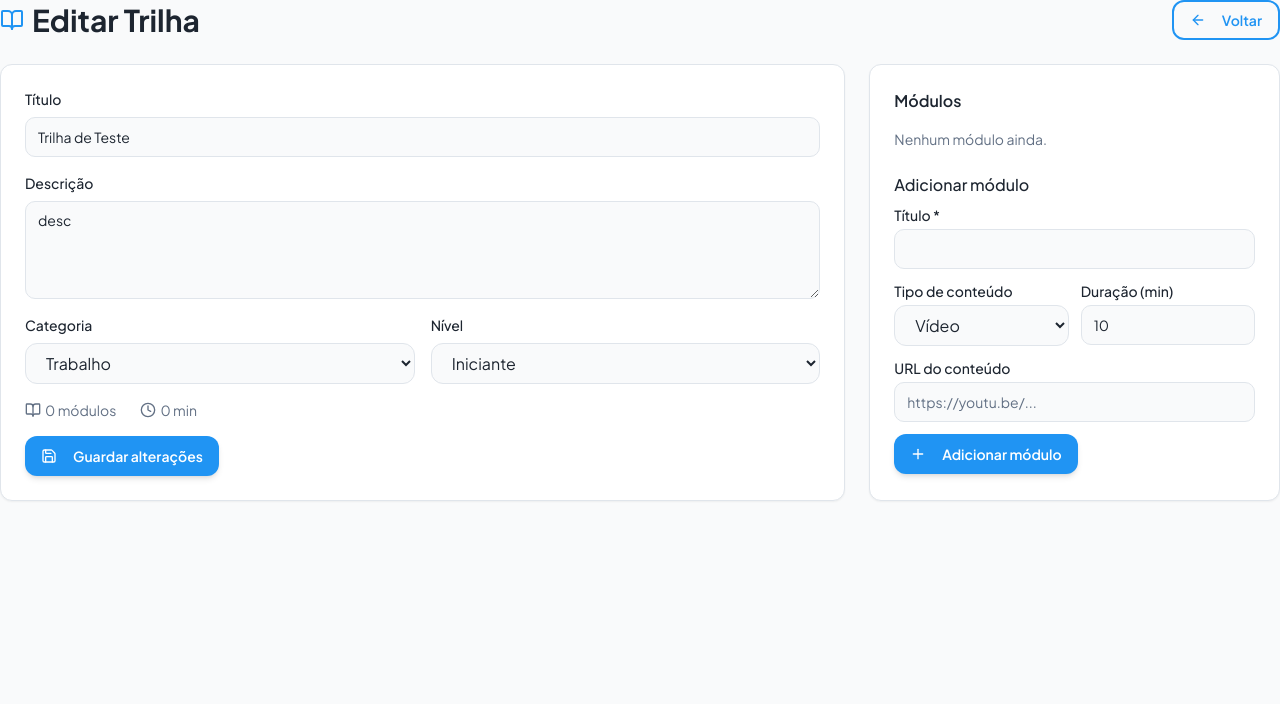
Test: TrailEditorPage — quiz editor › permite adicionar uma 2ª pergunta
Expected: the heading "Editar Trilha" is shown, [32,2,200,38]
Select "Quiz" in the dropdown labelled "Tipo de conteúdo" at (981, 326), box [894,305,1069,346]
(page scrolled)
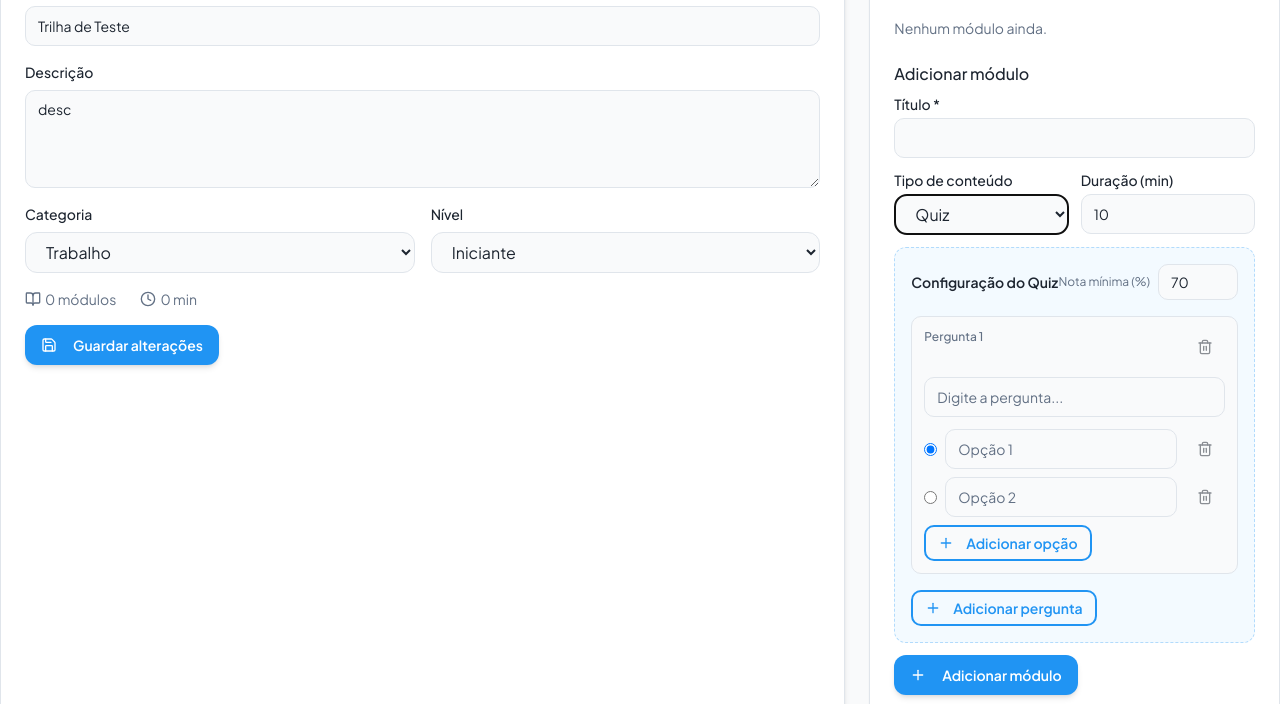
Click the button "Adicionar pergunta" at (1004, 608), box [911,590,1097,626]
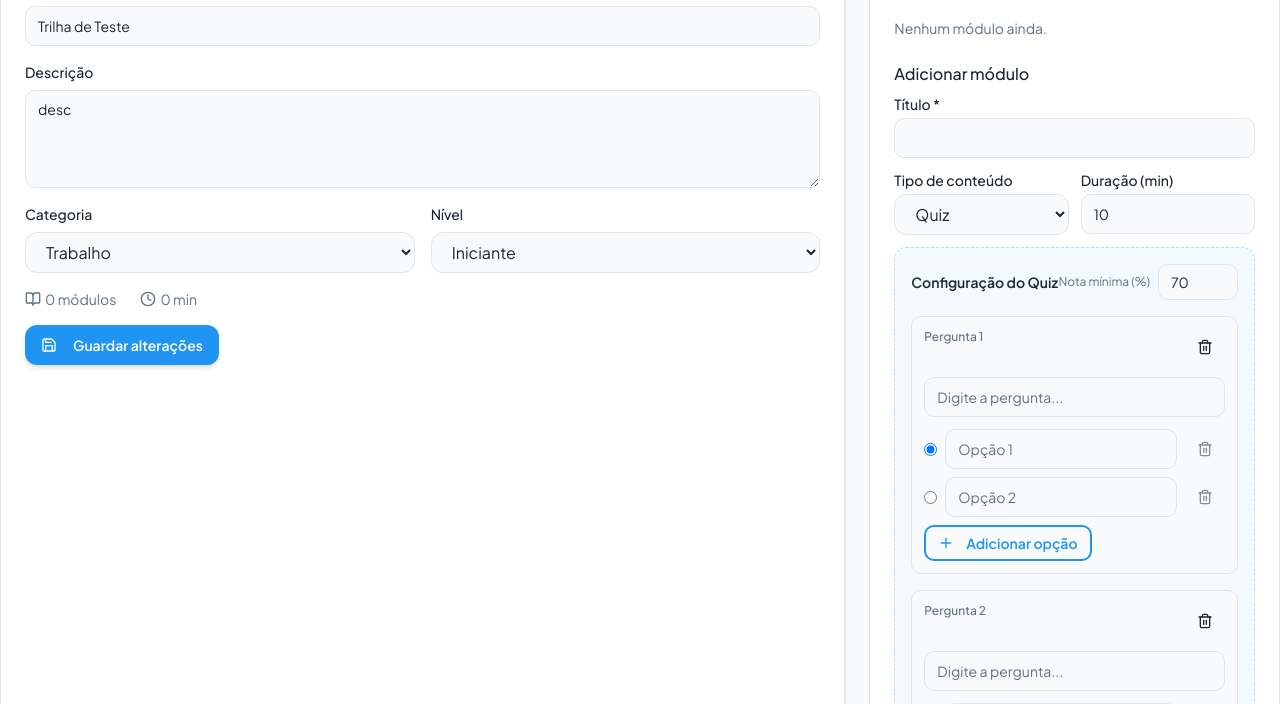
Expected: the text "Pergunta 2" is shown, [924,603,986,619]
